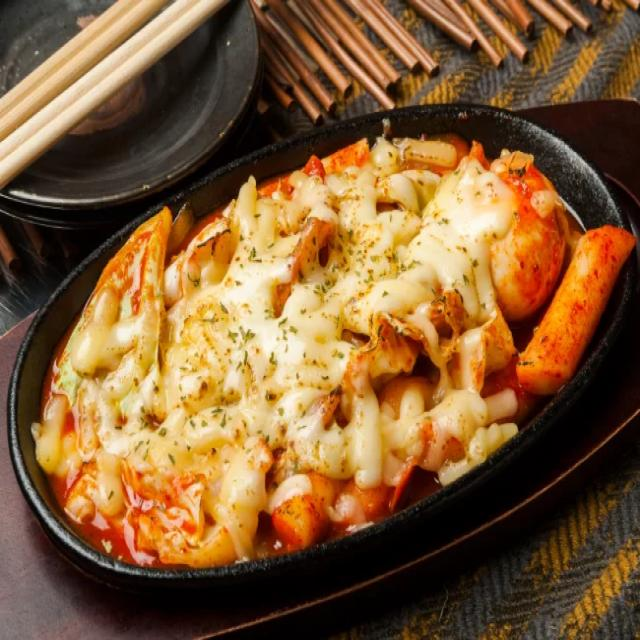carb: (38, 144, 640, 557)
meat: (459, 161, 567, 322)
